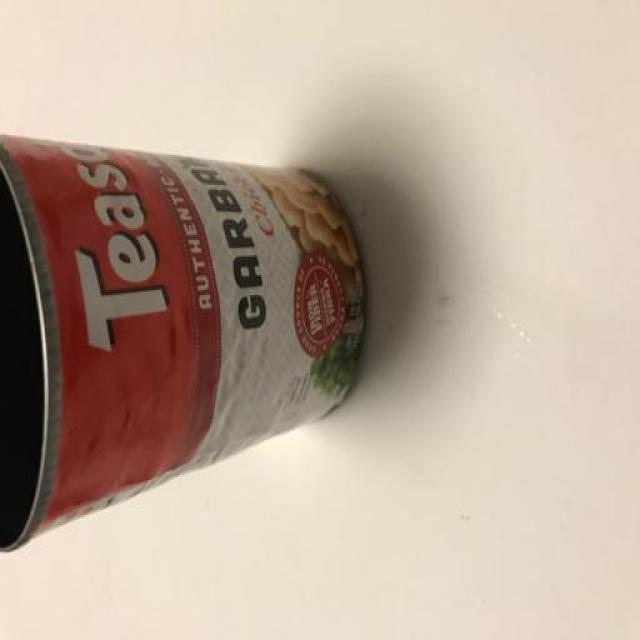metel: (2, 128, 381, 552)
